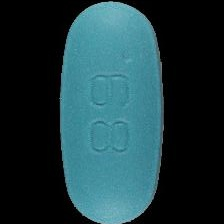54868-4059: (0, 0, 224, 224)
